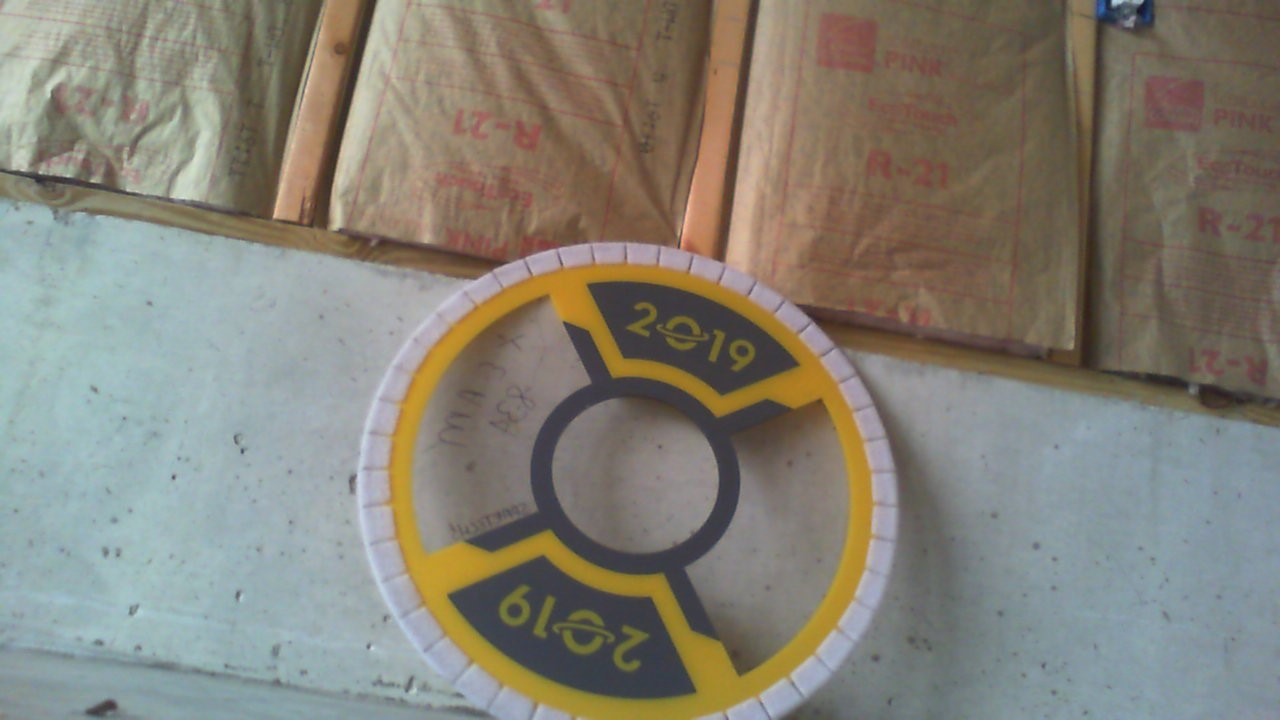Hatch: (353, 240, 898, 720)
